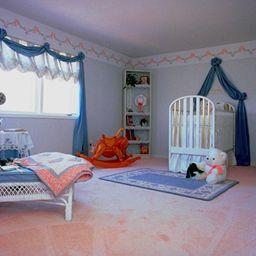Cama: (169, 99, 234, 152)
Otro Obstaculo: (83, 133, 142, 169), (189, 150, 228, 184)
Ventana: (5, 41, 80, 120)
